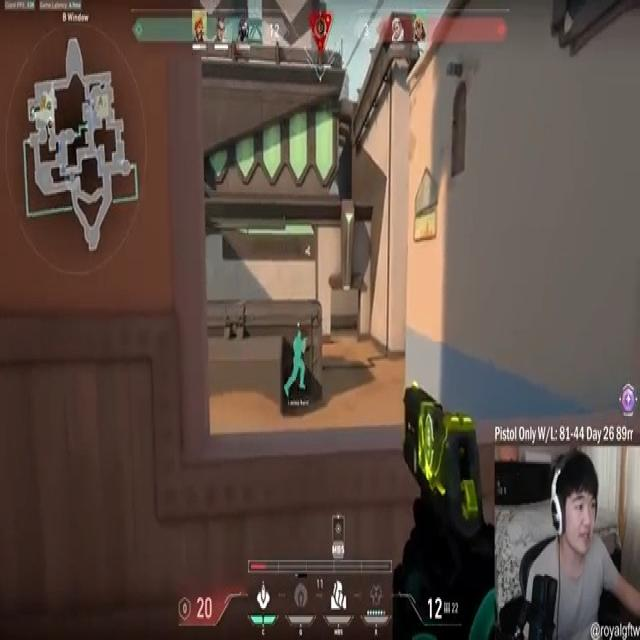ally behind wall: (286, 327, 307, 405)
